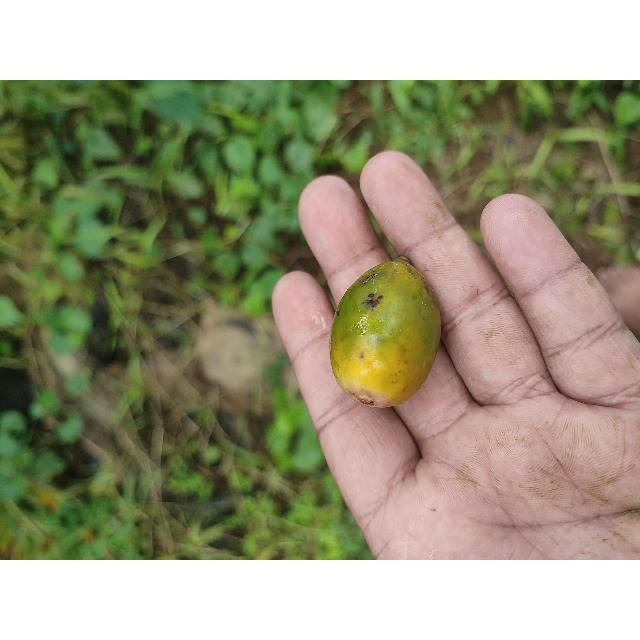good: (328, 261, 443, 410)
